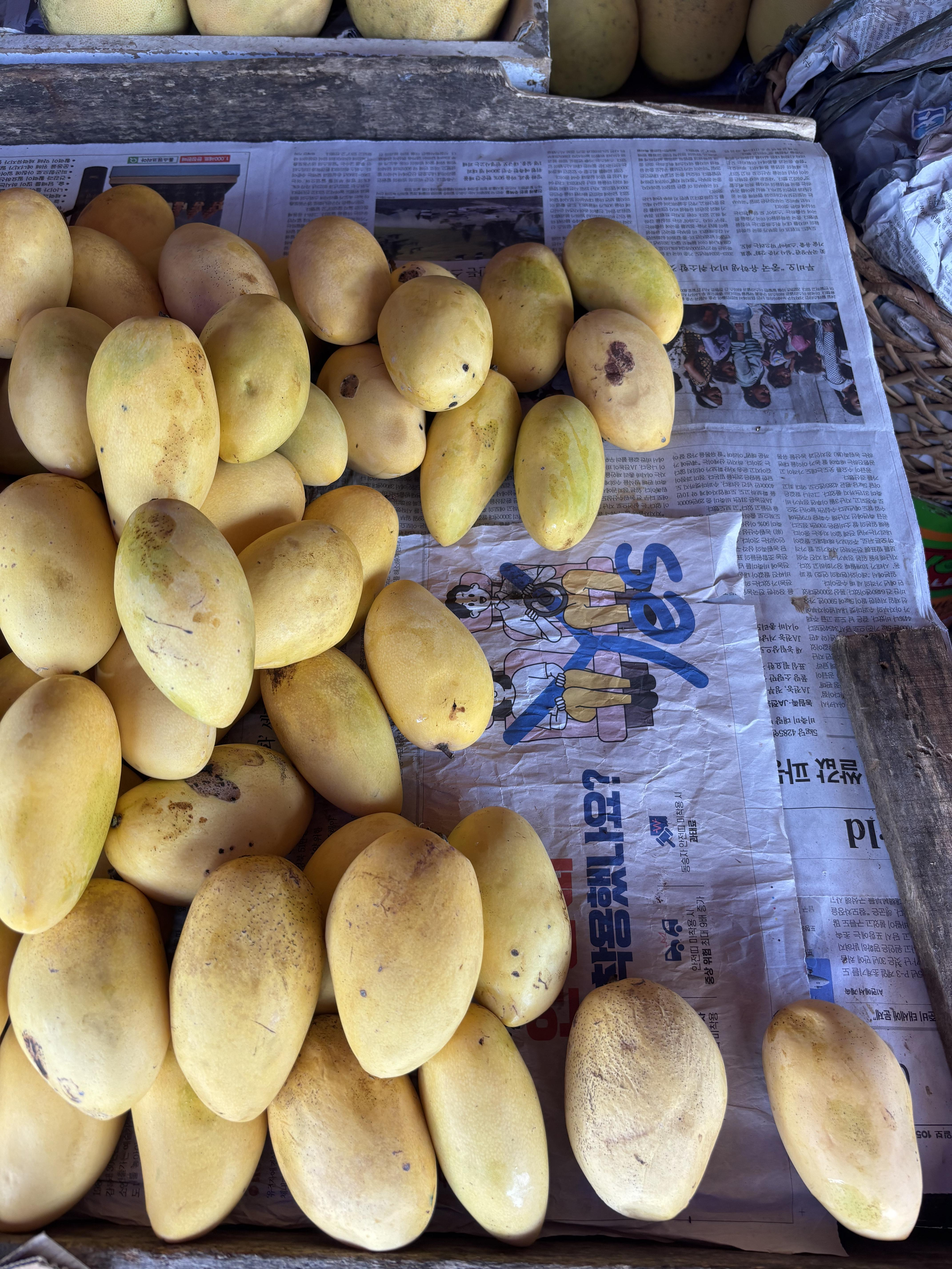mango: (170, 856, 323, 1122), (326, 826, 483, 1077), (565, 978, 726, 1221), (762, 999, 922, 1240), (114, 499, 255, 728), (364, 580, 493, 758), (566, 308, 675, 452), (378, 275, 493, 411), (514, 395, 605, 551)
occluded: (267, 1015, 437, 1251), (8, 879, 170, 1120), (104, 744, 314, 904), (418, 1004, 549, 1245), (0, 675, 121, 934), (86, 316, 220, 539), (448, 807, 571, 1027), (132, 1043, 266, 1242), (0, 1030, 125, 1232), (0, 474, 120, 676), (260, 649, 403, 817), (200, 293, 310, 463), (239, 520, 363, 669), (420, 369, 522, 546), (96, 632, 216, 780), (7, 307, 110, 478), (303, 485, 399, 645), (562, 217, 682, 343), (318, 343, 426, 478), (480, 243, 574, 392), (158, 224, 278, 335), (289, 215, 390, 345), (0, 188, 73, 358), (304, 812, 415, 916), (200, 451, 305, 554), (76, 184, 175, 280), (69, 227, 164, 327), (277, 384, 348, 485), (0, 652, 41, 719), (0, 921, 22, 1036), (390, 260, 454, 290), (315, 956, 337, 1014)
